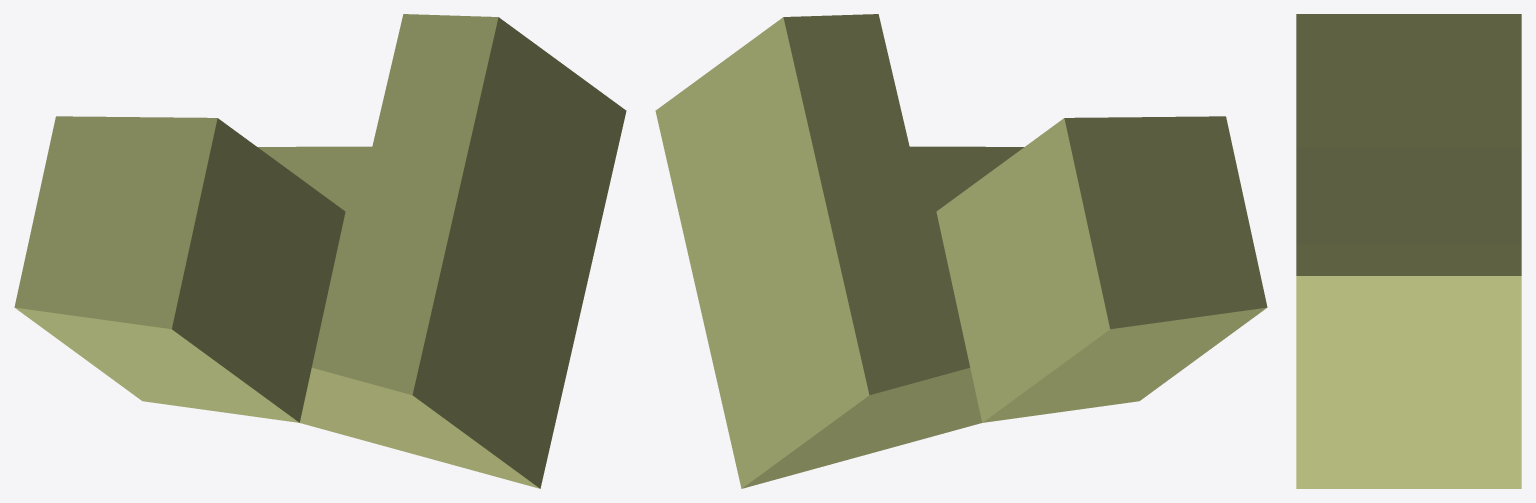
3 renders of one model, left to right at view 1: azimuth 30°, elevation 25°; view 2: azimuth 150°, elevation 25°; view 3: azimuth 270°, elevation 25°, orthographic. The views are drawn at different scales.
Visible parts, largest first — view 1: 0_1_0_1_3_3_3_3_1_0_0; view 2: 0_1_0_1_3_3_3_3_1_0_0; view 3: 0_1_0_1_3_3_3_3_1_0_0.
Part boxes in pixels (x1,y1,x2,y2): 0_1_0_1_3_3_3_3_1_0_0: (14,14,626,488); 0_1_0_1_3_3_3_3_1_0_0: (655,14,1267,488); 0_1_0_1_3_3_3_3_1_0_0: (1296,14,1521,488).
Bounding box in the file's own units: 13.1 × 9.92 × 6.
